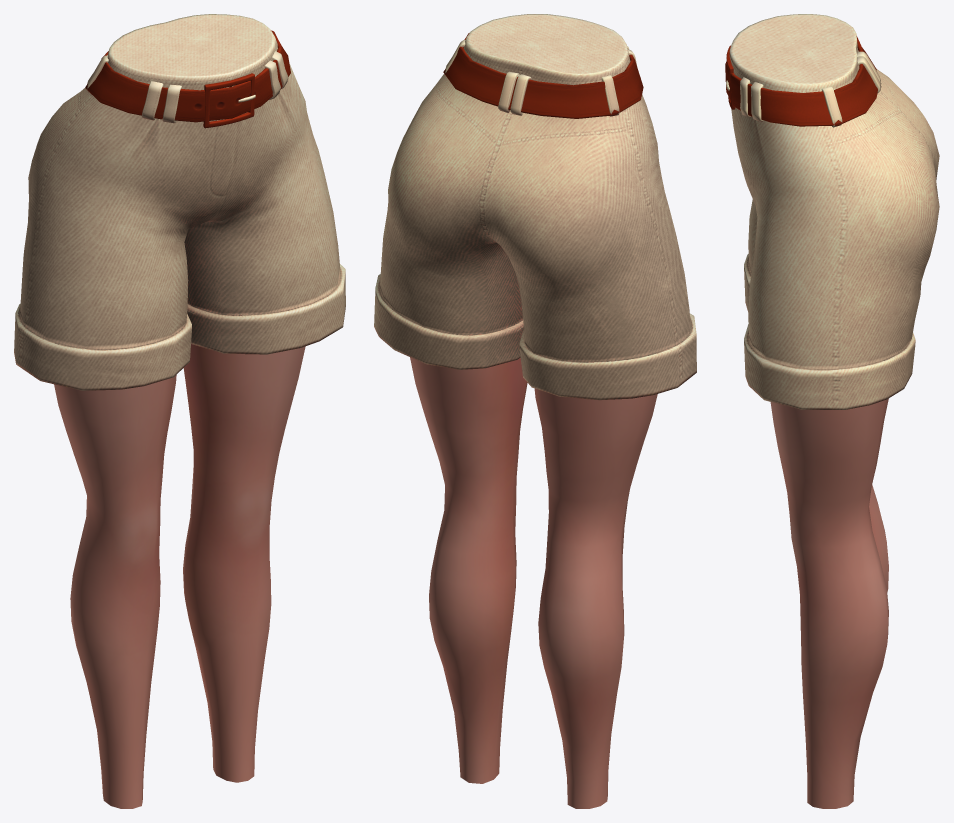
Rendered from pants_var_05.FBX.
The picture shows the model from 3 angles, left to right: view 1: azimuth 30°, elevation 25°; view 2: azimuth 150°, elevation 25°; view 3: azimuth 270°, elevation 25°; orthographic projection. The views are drawn at different scales.
Visible parts, largest first — view 1: pants_var_05; view 2: pants_var_05; view 3: pants_var_05.
Part boxes in pixels (x1,y1,x2,y2): pants_var_05: (14,14,345,808); pants_var_05: (374,14,696,808); pants_var_05: (725,14,939,808).
Bounding box in the file's own units: 38.16 × 88.78 × 23.65.
1 material, 1 textured.
